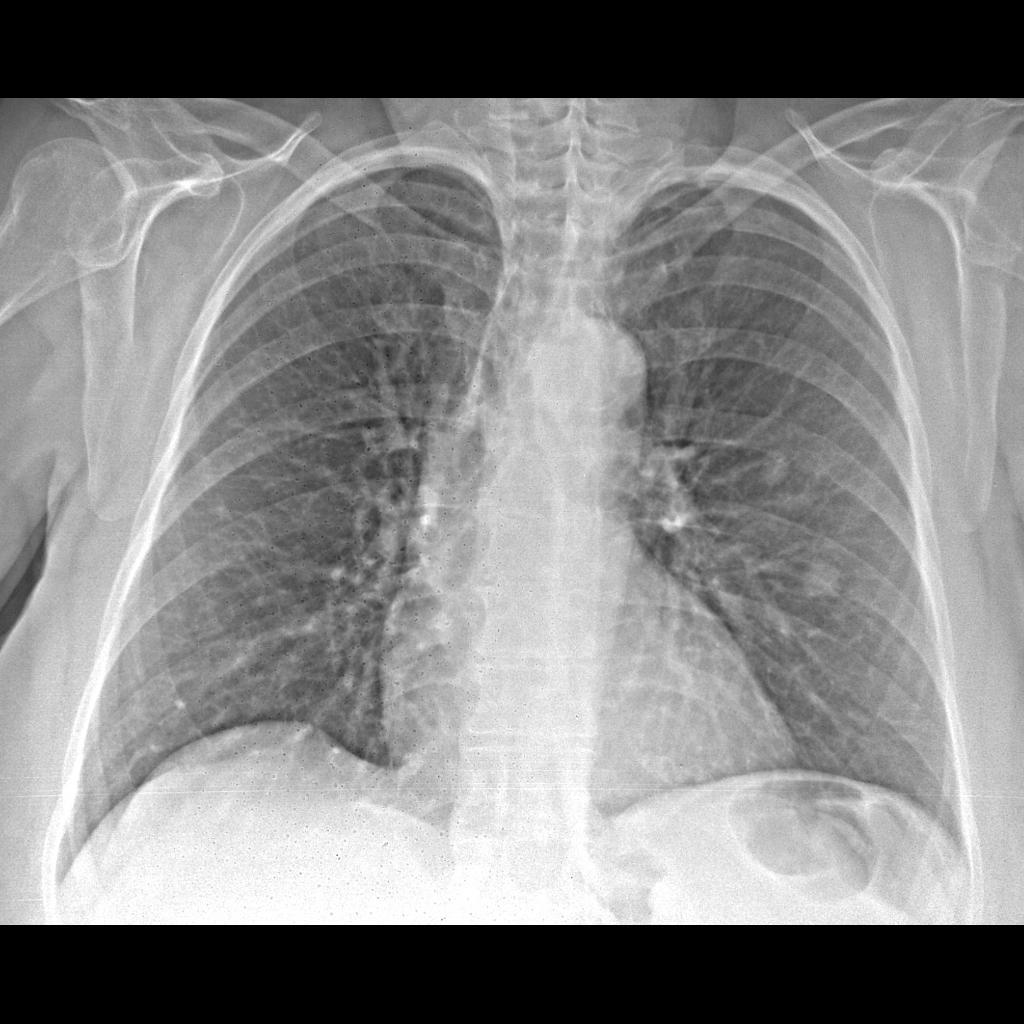Nodule: (756, 442, 795, 498), (797, 554, 844, 598)
